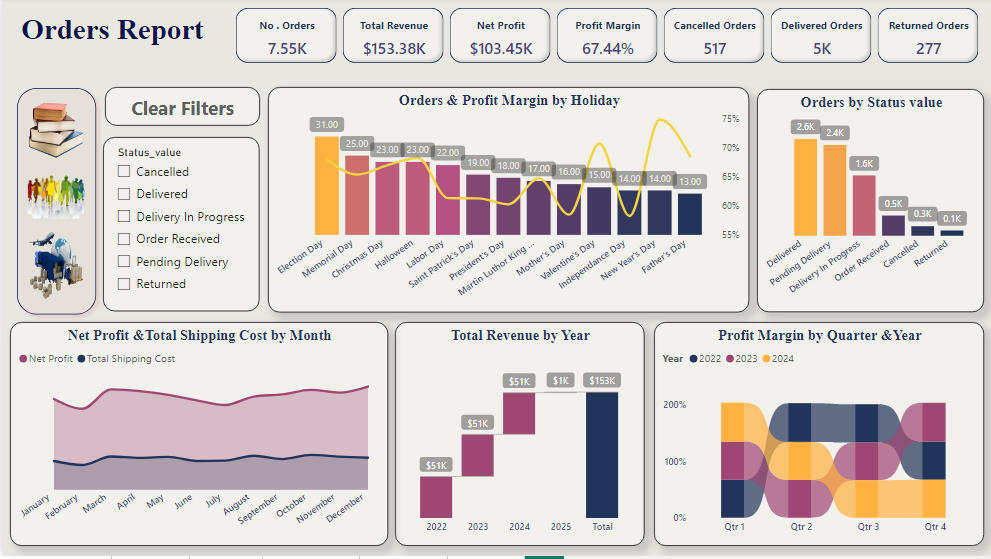

This screenshot's page, from the dashboard's own definition file:
{"tool":"powerbi","page":{"name":"Orders","canvas":[1280,720],"ordinal":1},"visuals":[{"type":"cardVisual","fields":{"Data":["Dax.No . Orders","Dax.Total Revenue","Dax.Net Profit","Dax.Profit Margin","Dax.Cancelled Orders","Dax.Delivered Orders","Dax.Returned Orders"]},"box":[295.5,7.7,970.3,81.3],"z":0},{"type":"lineClusteredColumnComboChart","title":"Orders & Profit Margin by Holiday","fields":{"Category":["DimDate.Holiday"],"Y":["Dax.No . Orders"],"Y2":["Dax.Profit Margin"]},"box":[342.3,115.3,620.9,290.8],"z":1000},{"type":"ribbonChart","title":"Profit Margin by Quarter &Year","fields":{"Category":["DimDate.Date.Variation.Date Hierarchy.Quarter"],"Series":["DimDate.Date.Variation.Date Hierarchy.Year"],"Y":["Dax.Profit Margin"]},"box":[839.5,417.6,426.2,288.9],"z":2000},{"type":"waterfallChart","fields":{"Category":["DimDate.Date.Variation.Date Hierarchy.Year"],"Y":["Dax.Total Revenue"]},"box":[506.3,417.6,321.8,288.9],"z":3000},{"type":"areaChart","title":"Net Profit &Total Shipping Cost by Month","fields":{"Category":["DimDate.Date.Variation.Date Hierarchy.Month"],"Y":["Dax.Net Profit","Dax.Total Shipping Cost"]},"box":[8.6,417.6,487.7,288.9],"z":4000},{"type":"shape","box":[8.6,106.7,120.2,310.4],"z":5000},{"type":"image","title":"books","box":[27.2,125.9,82.9,85.8],"z":6000},{"type":"image","title":"shappimg","box":[27.2,294.6,82.9,100.1],"z":7000},{"type":"clusteredColumnChart","title":"Orders by Status value","fields":{"Category":["FactTable.Status_value"],"Y":["Dax.No . Orders"]},"box":[973,117.8,293.3,288.3],"z":8000},{"type":"textbox","box":[0,14.3,324.6,68.6],"z":9000},{"type":"image","box":[27.2,190.2,82.9,100.1],"z":10000},{"type":"slicer","fields":{"Values":["FactTable.Status_value"]},"box":[128.8,179.1,202.5,224.5],"z":11000},{"type":"actionButton","box":[131.3,115.3,200,50.3],"z":12000}]}

Visuals, with their boxes in screenshot pixels (x1, y1, x2, y2), scaled from the page's 1280x720 canvas onto the 991x559 screenshot:
cardVisual - Dax.No . Orders x Dax.Total Revenue: crop(229, 6, 980, 69)
"Orders & Profit Margin by Holiday" lineClusteredColumnComboChart: crop(265, 90, 746, 315)
"Profit Margin by Quarter &Year" ribbonChart: crop(650, 324, 980, 549)
waterfallChart - DimDate.Date.Variation.Date Hierarchy.Year x Dax.Total Revenue: crop(392, 324, 641, 549)
"Net Profit &Total Shipping Cost by Month" areaChart: crop(7, 324, 384, 549)
shape: crop(7, 83, 100, 324)
"books" image: crop(21, 98, 85, 164)
"shappimg" image: crop(21, 229, 85, 306)
"Orders by Status value" clusteredColumnChart: crop(753, 91, 980, 315)
textbox: crop(0, 11, 251, 64)
image: crop(21, 148, 85, 225)
slicer - FactTable.Status_value: crop(100, 139, 256, 313)
actionButton: crop(102, 90, 256, 129)
